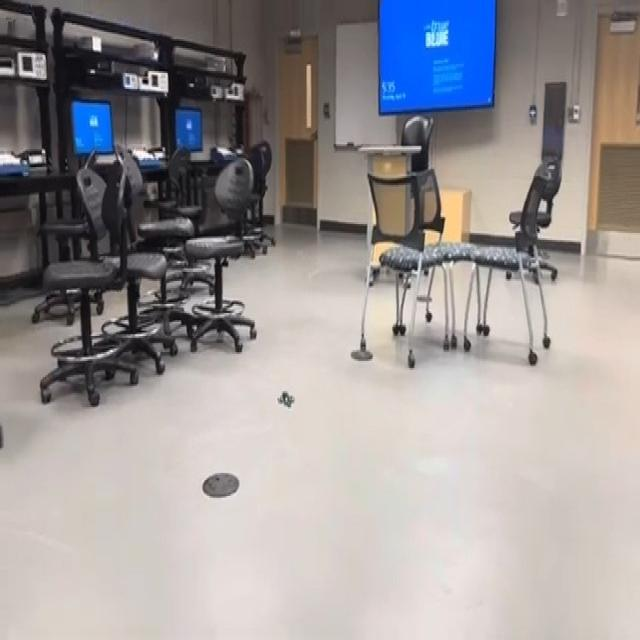drone: (270, 375, 302, 432)
